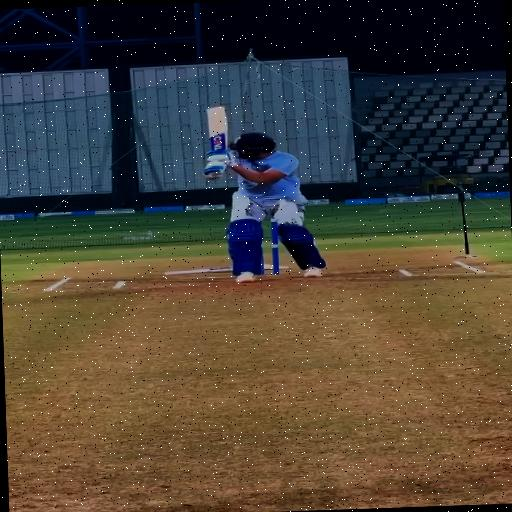Cricket bat: (207, 106, 227, 157)
